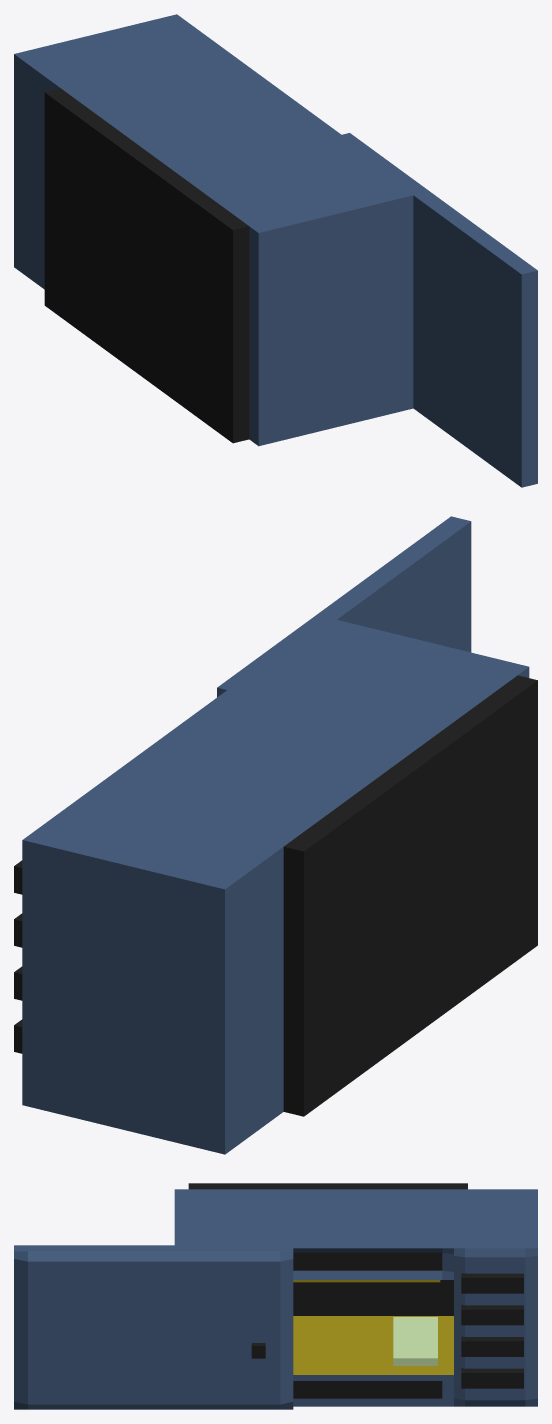
The model's file is sleepbox.fbx.
3 renders of one model, top to bottom at view 1: azimuth 30°, elevation 25°; view 2: azimuth 150°, elevation 25°; view 3: azimuth 270°, elevation 25°, orthographic. The views are drawn at different scales.
Parts seen in each view (by area): view 1: Cube.003, Cube.006; view 2: Cube.003, Cube.006; view 3: Cube.003, Cube.006.
Boxes of the visible parts, <box> form: Cube.003: <box>14,14,420,446</box>; Cube.006: <box>342,133,537,487</box>; Cube.003: <box>14,617,537,1154</box>; Cube.006: <box>217,516,471,697</box>; Cube.003: <box>174,1183,537,1406</box>; Cube.006: <box>14,1245,293,1409</box>.
Bounding box in the file's own units: 500 × 500 × 1500.
